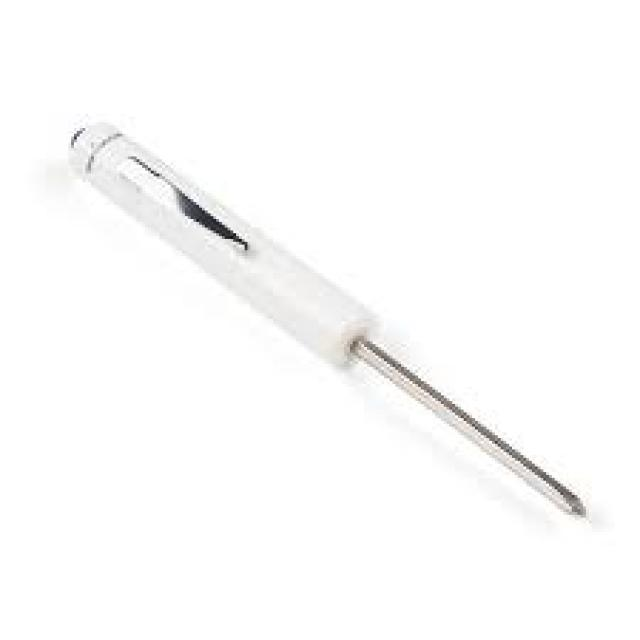screw driver: (42, 95, 609, 555)
